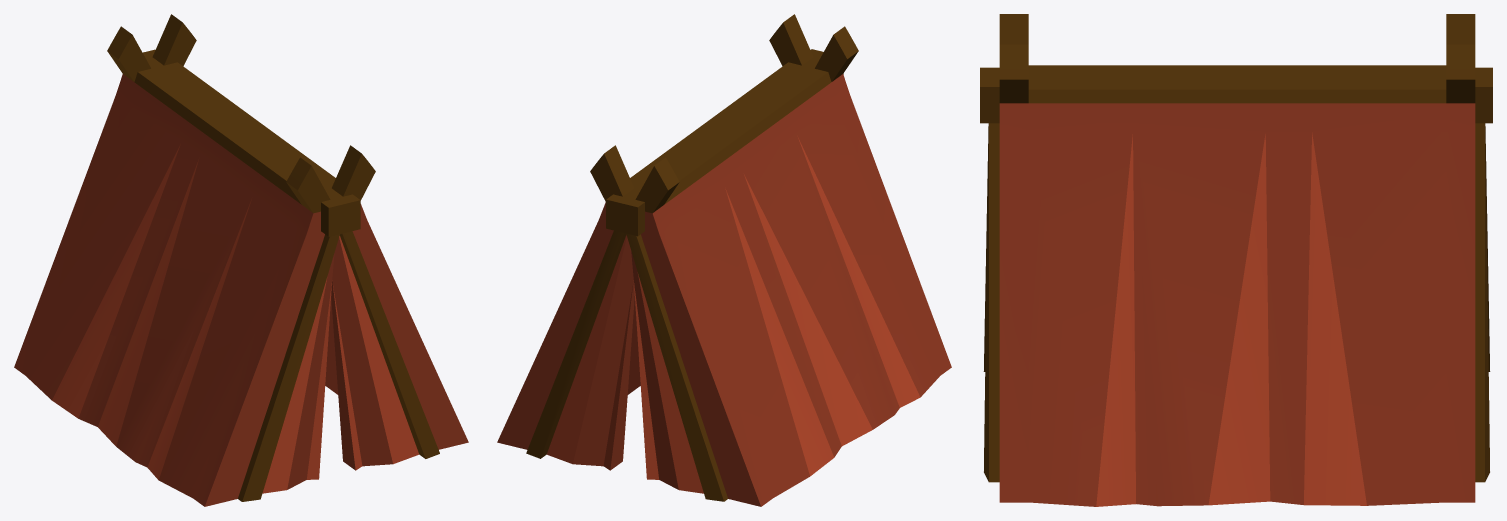
Rendered from Tienda.fbx.
The picture shows the model from 3 angles, left to right: view 1: azimuth 30°, elevation 25°; view 2: azimuth 150°, elevation 25°; view 3: azimuth 270°, elevation 25°; orthographic projection. The views are drawn at different scales.
Visible parts, largest first — view 1: Tienda001; view 2: Tienda001; view 3: Tienda001.
Part boxes in pixels (<box>): Tienda001: <box>14,14,468,506</box>; Tienda001: <box>497,14,951,506</box>; Tienda001: <box>980,14,1492,506</box>.
Size of the model in its own units: 439 by 473 by 560.
